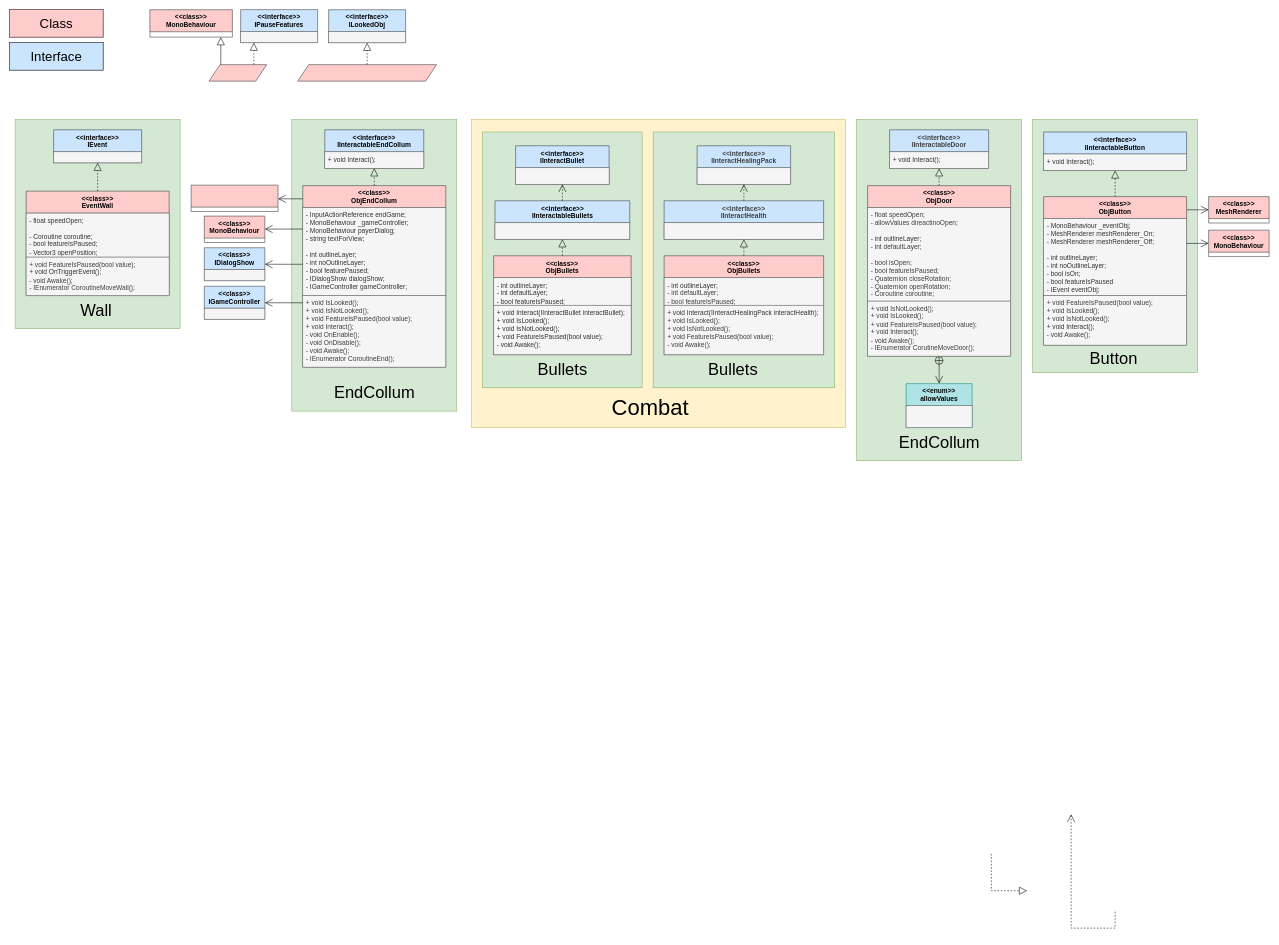
Some shapes in this 1279 by 945 pixel diagram are drawn without their labels. The shapes that lost their labels are listed below. From the top down, each one's centre as x and y in pixels, then its label:
At (x=237, y=72): "All Classes".
At (x=367, y=72): "All Classes what implement IInteractable".
At (x=562, y=175): "+ void GetBunchOfBullets();".
At (x=744, y=175): "+ void GetHealingPack();".
At (x=234, y=198): "<<class>> InputActionReference".
At (x=562, y=230): "+ void Interact(IInteractBullet interactBullet);".
At (x=744, y=230): "+ void Interact(IInteractHealingPack interactHealth);".
At (x=939, y=416): "negative = -1; positive = 1;".
